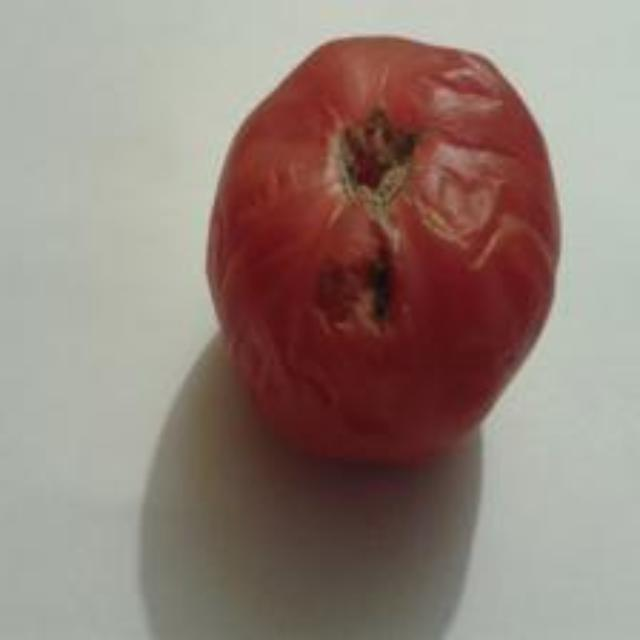defect: (202, 27, 566, 471)
